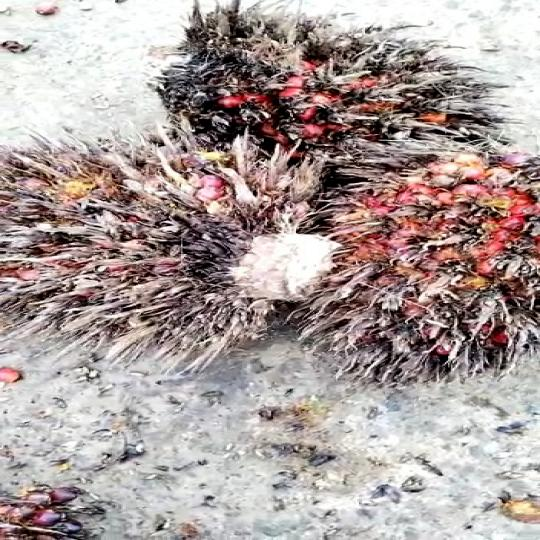terlalu masak: (0, 141, 365, 362), (281, 123, 540, 391), (142, 15, 464, 161)
